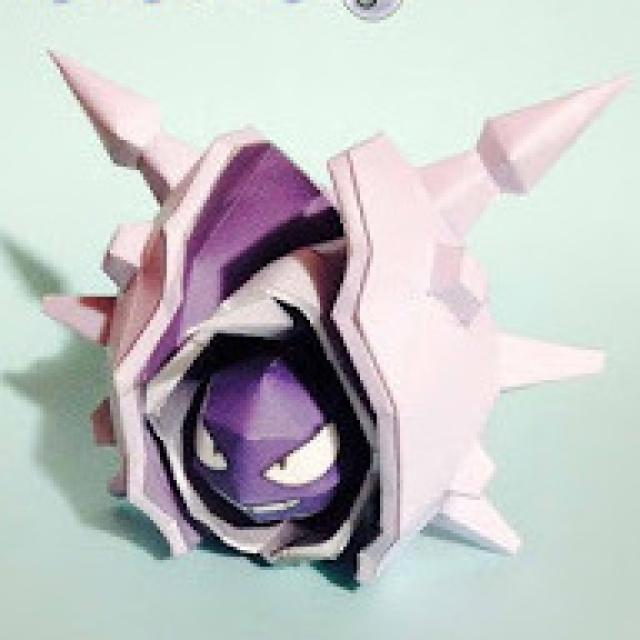Cloyster: (49, 60, 630, 584)
